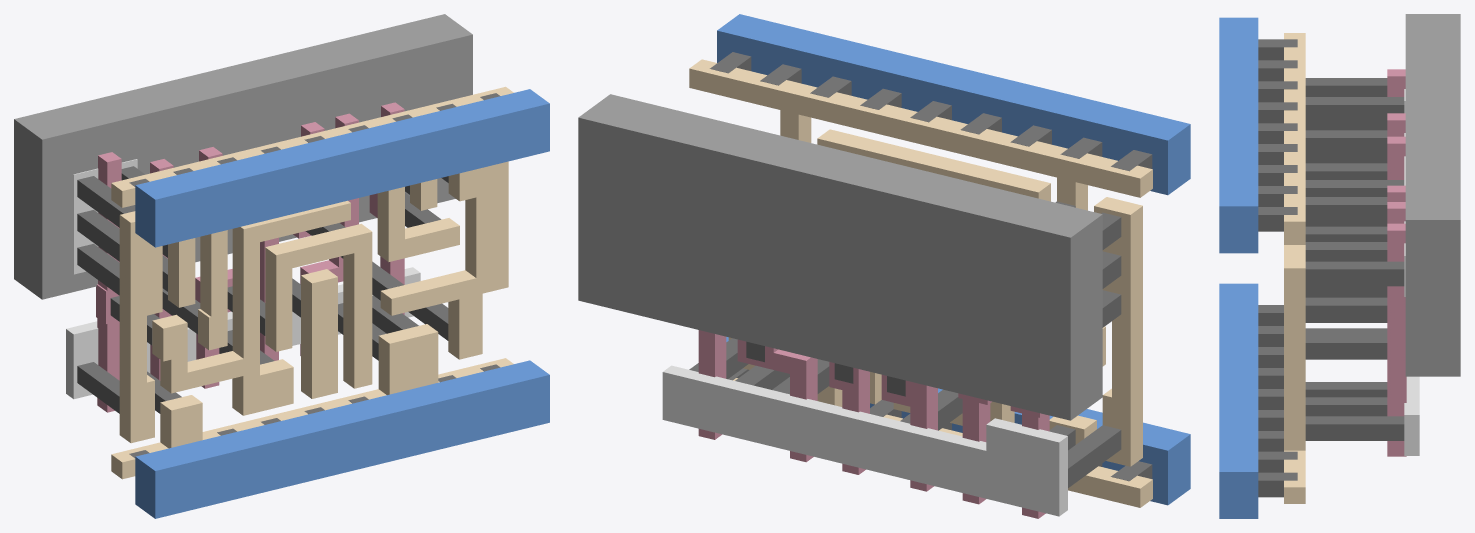
Rendered from sky130_fd_sc_hd__mux2_1.gds.gltf.
3 renders of one model, left to right at view 1: azimuth 30°, elevation 25°; view 2: azimuth 150°, elevation 25°; view 3: azimuth 270°, elevation 25°, orthographic. The views are drawn at different scales.
Parts seen in each view (by area): view 1: sky130_fd_sc_hd__mux2_1_li1, sky130_fd_sc_hd__mux2_1_met1, sky130_fd_sc_hd__mux2_1_nwell, sky130_fd_sc_hd__mux2_1_licon, sky130_fd_sc_hd__mux2_1_poly, sky130_fd_sc_hd__mux2_1_diff, sky130_fd_sc_hd__mux2_1_mcon; view 2: sky130_fd_sc_hd__mux2_1_nwell, sky130_fd_sc_hd__mux2_1_li1, sky130_fd_sc_hd__mux2_1_met1, sky130_fd_sc_hd__mux2_1_diff, sky130_fd_sc_hd__mux2_1_poly, sky130_fd_sc_hd__mux2_1_licon, sky130_fd_sc_hd__mux2_1_mcon; view 3: sky130_fd_sc_hd__mux2_1_licon, sky130_fd_sc_hd__mux2_1_nwell, sky130_fd_sc_hd__mux2_1_met1, sky130_fd_sc_hd__mux2_1_mcon, sky130_fd_sc_hd__mux2_1_li1, sky130_fd_sc_hd__mux2_1_poly, sky130_fd_sc_hd__mux2_1_diff.
Part boxes in pixels (bbox=[...]): sky130_fd_sc_hd__mux2_1_li1: bbox=[111, 86, 513, 479]; sky130_fd_sc_hd__mux2_1_met1: bbox=[135, 89, 549, 518]; sky130_fd_sc_hd__mux2_1_nwell: bbox=[14, 14, 472, 299]; sky130_fd_sc_hd__mux2_1_licon: bbox=[77, 166, 448, 413]; sky130_fd_sc_hd__mux2_1_poly: bbox=[96, 102, 404, 412]; sky130_fd_sc_hd__mux2_1_diff: bbox=[66, 159, 420, 399]; sky130_fd_sc_hd__mux2_1_mcon: bbox=[129, 93, 500, 457]; sky130_fd_sc_hd__mux2_1_nwell: bbox=[578, 94, 1102, 420]; sky130_fd_sc_hd__mux2_1_li1: bbox=[689, 59, 1152, 507]; sky130_fd_sc_hd__mux2_1_met1: bbox=[717, 14, 1190, 505]; sky130_fd_sc_hd__mux2_1_diff: bbox=[662, 365, 1067, 516]; sky130_fd_sc_hd__mux2_1_poly: bbox=[698, 330, 1049, 518]; sky130_fd_sc_hd__mux2_1_licon: bbox=[689, 201, 1121, 487]; sky130_fd_sc_hd__mux2_1_mcon: bbox=[710, 52, 1152, 481]; sky130_fd_sc_hd__mux2_1_licon: bbox=[1305, 78, 1404, 440]; sky130_fd_sc_hd__mux2_1_nwell: bbox=[1405, 14, 1460, 376]; sky130_fd_sc_hd__mux2_1_met1: bbox=[1219, 17, 1258, 518]; sky130_fd_sc_hd__mux2_1_mcon: bbox=[1258, 39, 1297, 497]; sky130_fd_sc_hd__mux2_1_li1: bbox=[1284, 33, 1305, 503]; sky130_fd_sc_hd__mux2_1_poly: bbox=[1387, 69, 1406, 456]; sky130_fd_sc_hd__mux2_1_diff: bbox=[1404, 89, 1419, 455].
Bounding box in the file's own units: 4.52 × 3.2 × 2.24.
